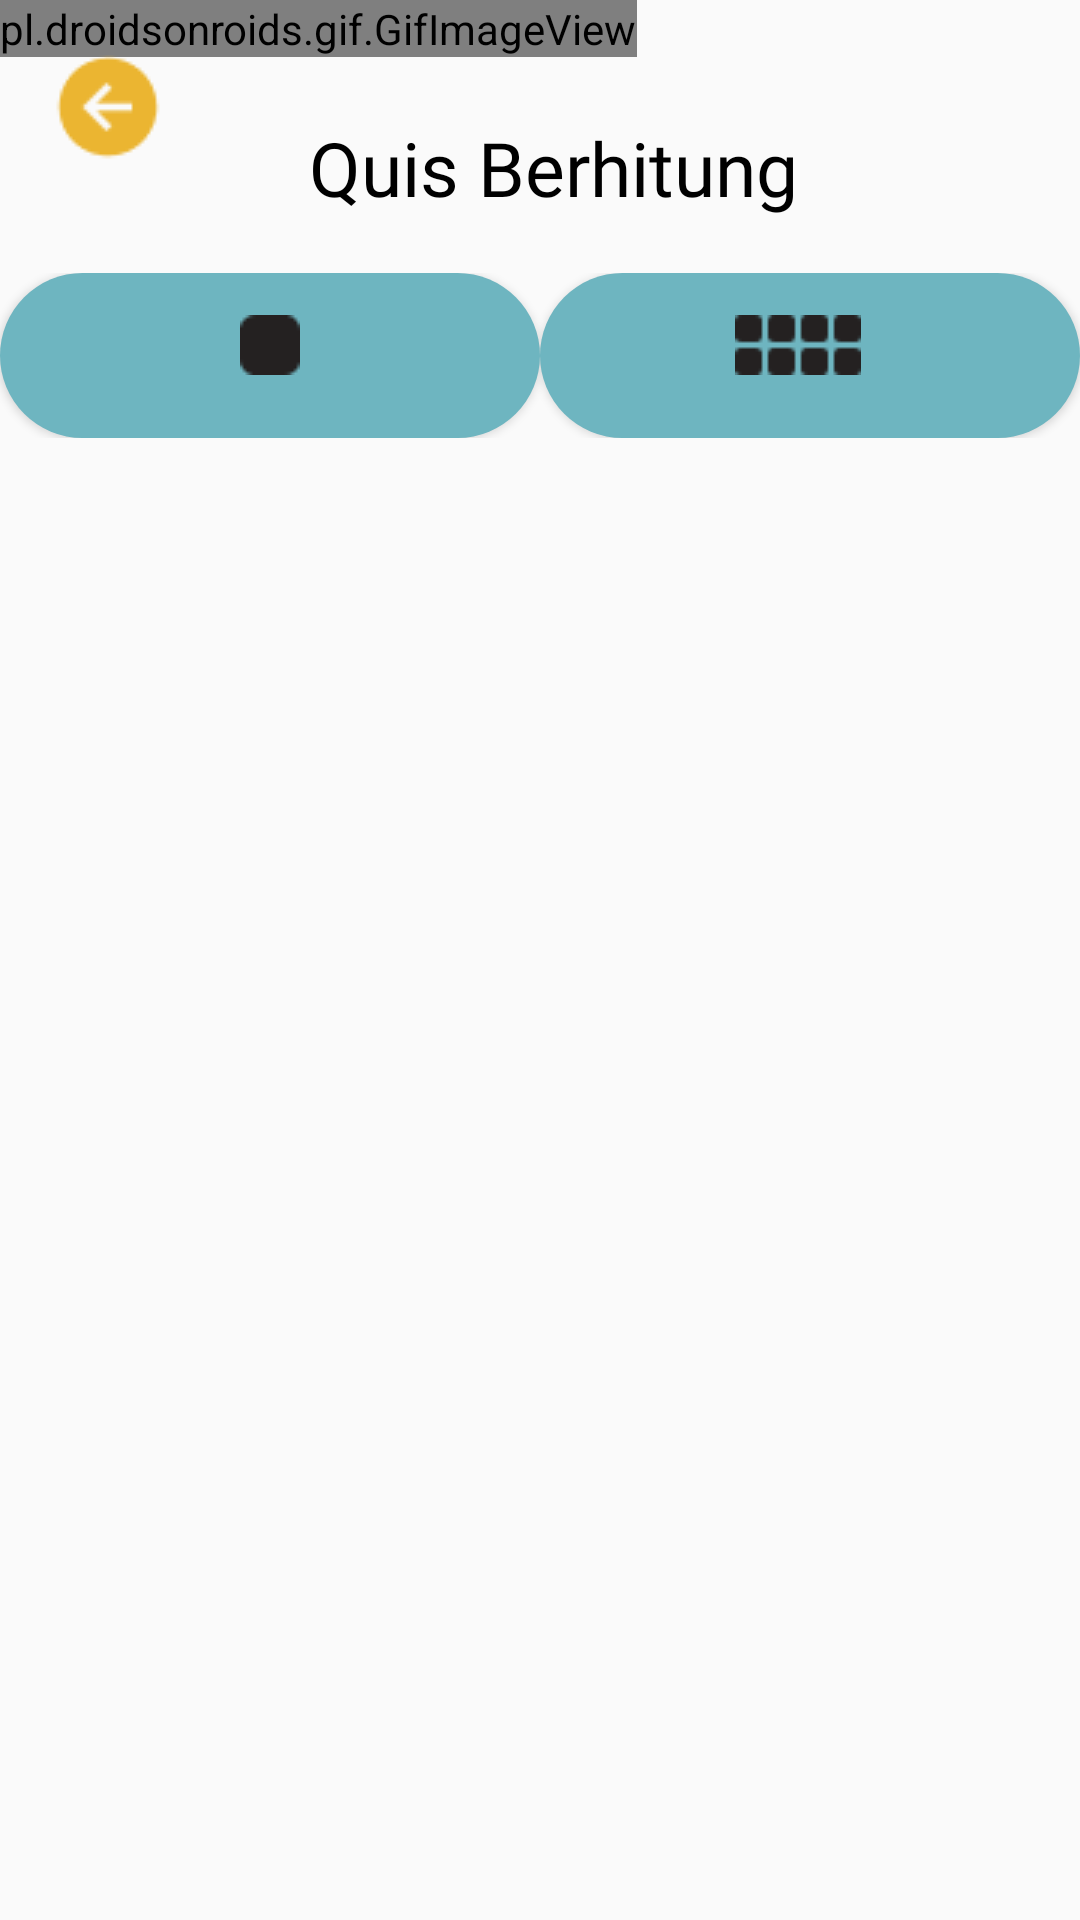

Where icons sit on this 1080×1920 app screen, as (x1, y1, x2, y2):
keluar: (48, 47, 168, 158)
